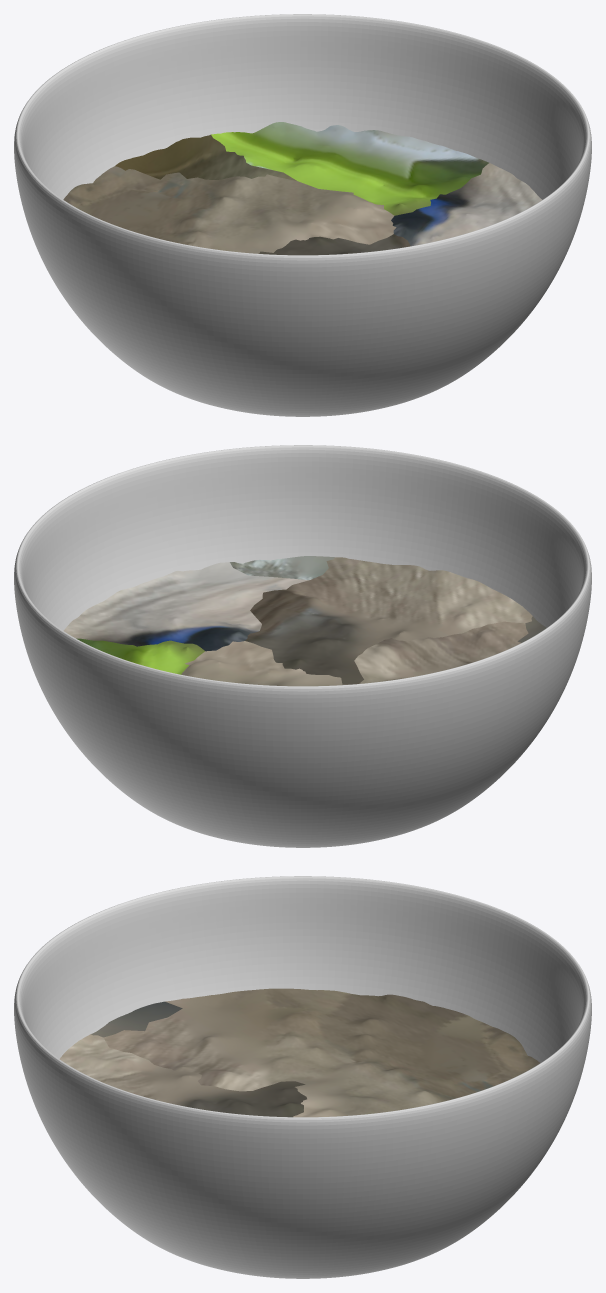
File: soup.fbx
The picture shows the model from 3 angles, top to bottom: view 1: azimuth 30°, elevation 25°; view 2: azimuth 150°, elevation 25°; view 3: azimuth 270°, elevation 25°; orthographic projection.
Parts seen in each view (by area): view 1: Sphere, 3DModel; view 2: Sphere, 3DModel; view 3: Sphere, 3DModel.
Boxes of the visible parts, x1,y1,x2,y2 form: Sphere: (14, 14, 591, 416); 3DModel: (63, 122, 541, 255); Sphere: (14, 445, 591, 847); 3DModel: (49, 556, 546, 697); Sphere: (14, 876, 591, 1278); 3DModel: (59, 988, 540, 1159).
Bounding box in the file's own units: 29.54 × 12.37 × 29.54.
1 material, 1 textured.
